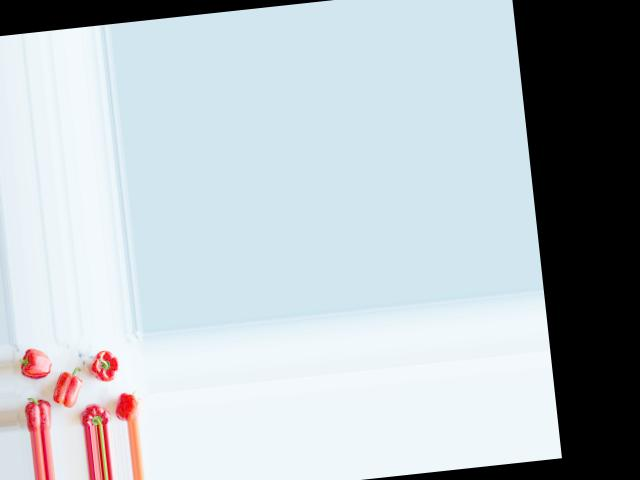bell_pepper: (78, 400, 110, 426)
